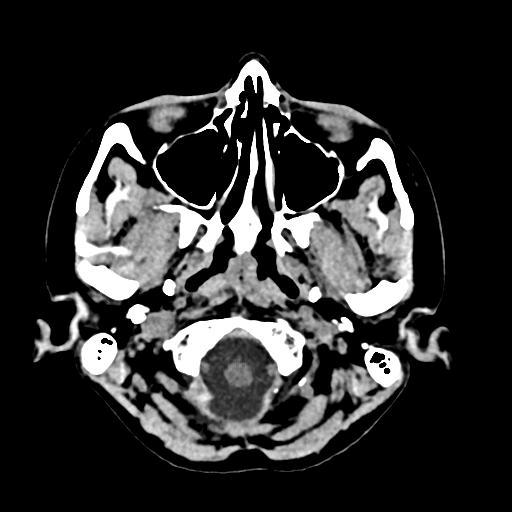Normal_Brain: (8, 45, 512, 511)
